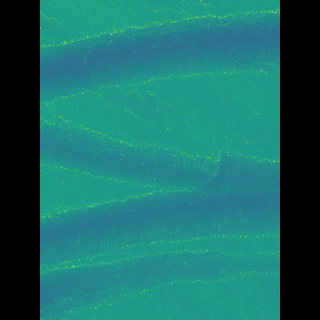Loch: (70, 191, 251, 320), (69, 5, 249, 103), (70, 112, 249, 193)
